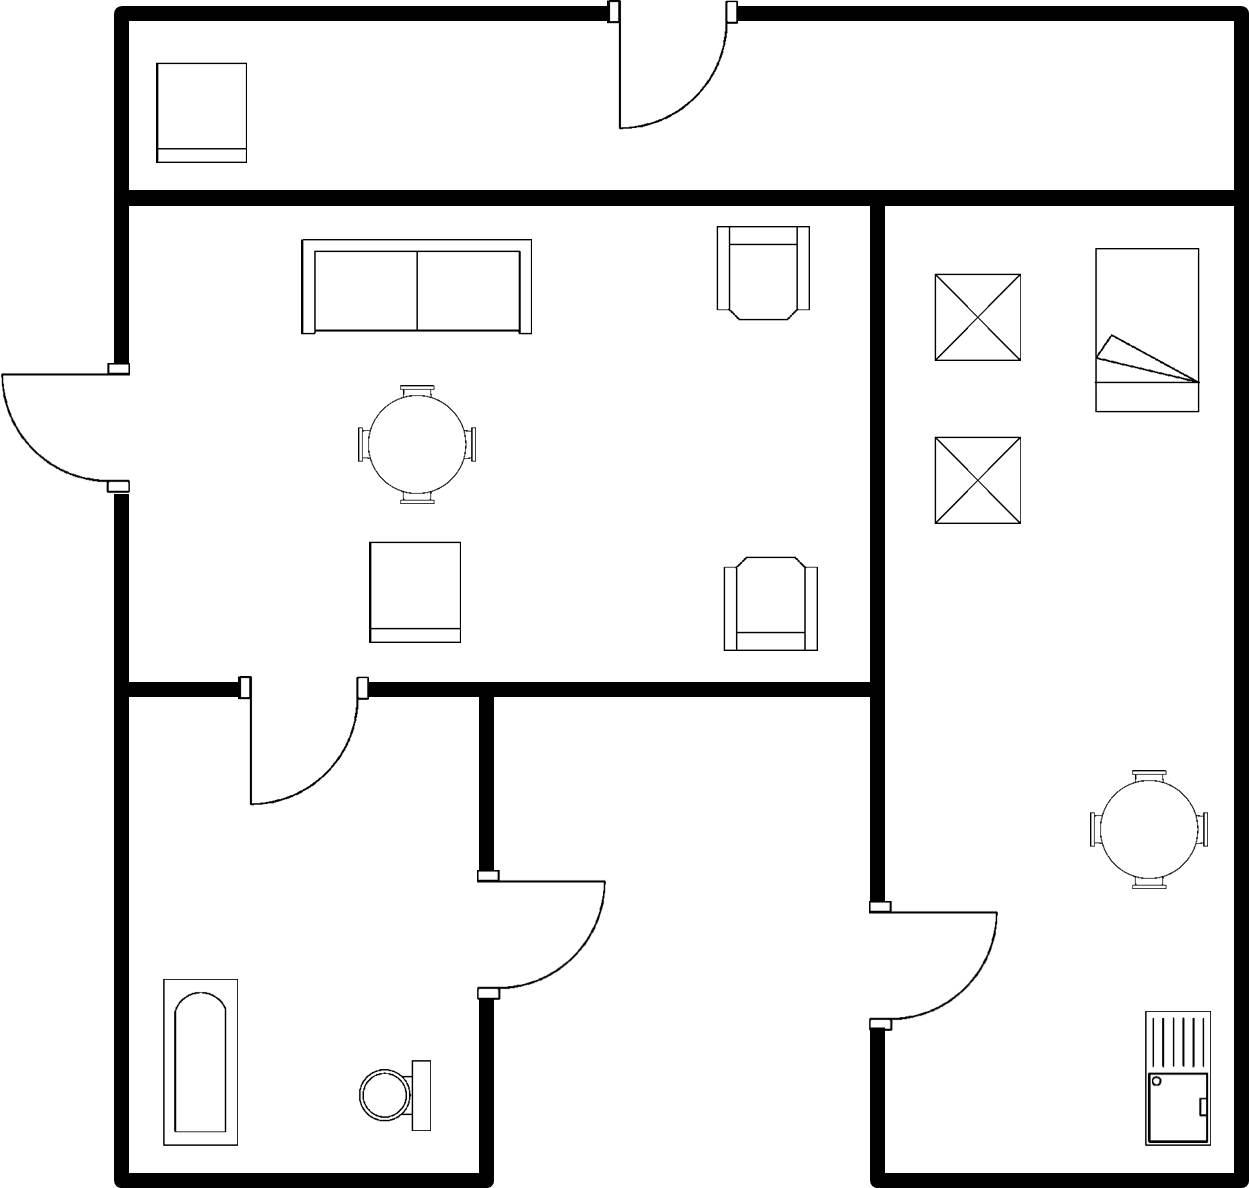bed: (1085, 239, 1210, 421)
round_table: (345, 376, 488, 516), (1084, 759, 1214, 899)
sink: (1134, 1002, 1218, 1153)
sofa: (293, 230, 538, 345)
toilet: (350, 1053, 443, 1136)
tub: (153, 973, 248, 1156)
